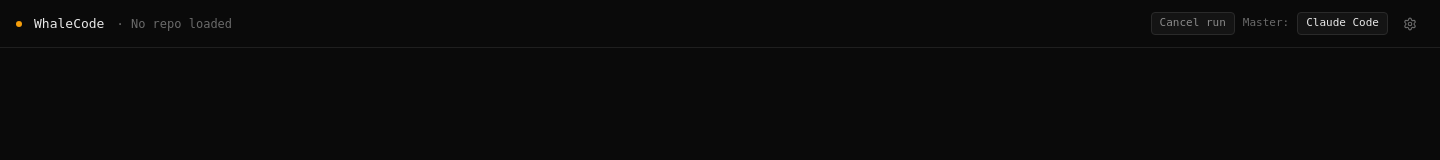
Test: TopBar cancel-run button › swallows cancelRun rejection (error surfaces via currentError)
The image size is (1440, 160).
What coordinates should you click on to do the following:
click the button with test id "topbar-cancel-run"
I would click on:
 (1193, 24)
Its box is [1150,12,1235,35].
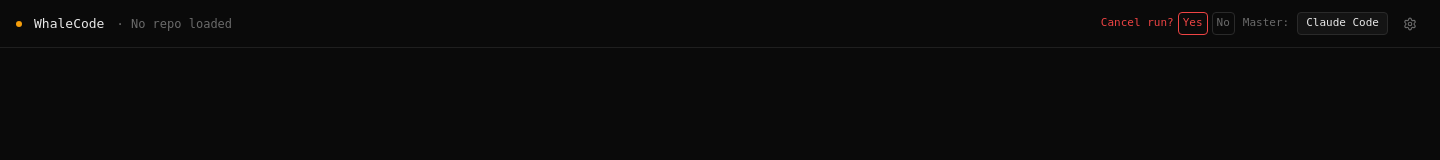
What coordinates should you click on to do the following:
click the button with test id "topbar-cancel-confirm-yes"
I would click on:
 (1193, 24)
Its box is [1178,12,1208,35].
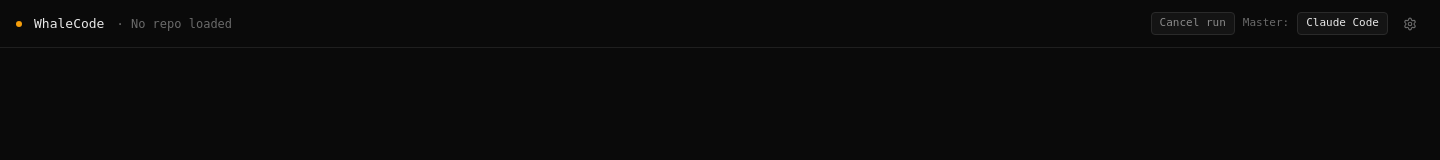
Now the element with test id "topbar-cancel-confirm" is gone
